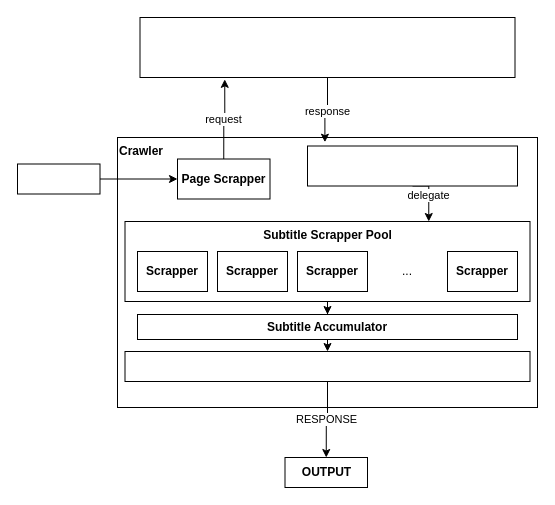
Image size: 555x505. Some labels were removed from this diagram. The centre of each missing label's shape, as x and y in pixels:
"INPUT" goes at point (58, 178).
"legendas.tv" goes at point (327, 47).
"Page Accumulator" goes at point (412, 165).
"Parser" goes at point (327, 366).
